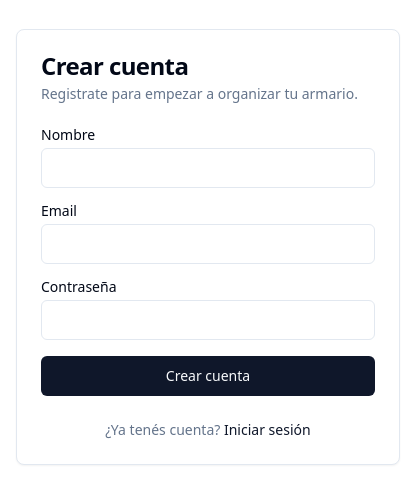
it: RegisterPage › valida longitud mínima de password sin disparar el request
The image size is (417, 495).
Type "Nico" into the field labelled "Nombre" at (208, 168), box [41,148,375,188]
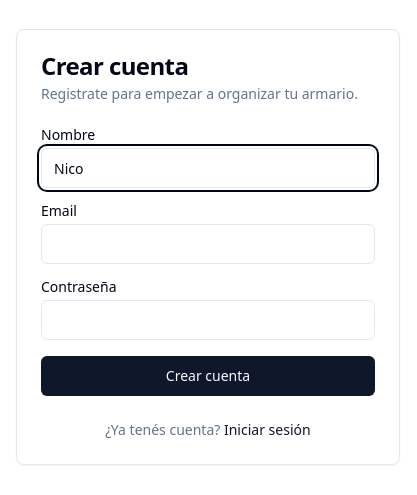
Type "nuevo@b.com" into the field labelled "Email" at (208, 244), box [41,224,375,264]
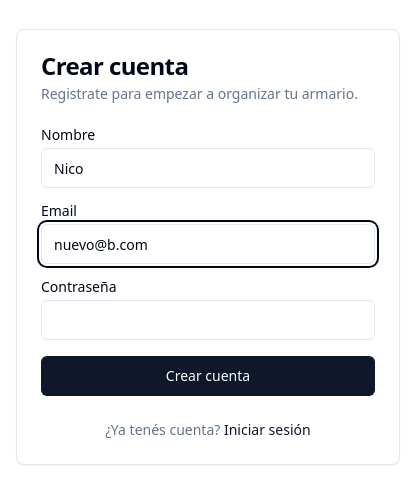
Type "short" into the password field labelled "Contraseña" at (208, 320), box [41,300,375,340]
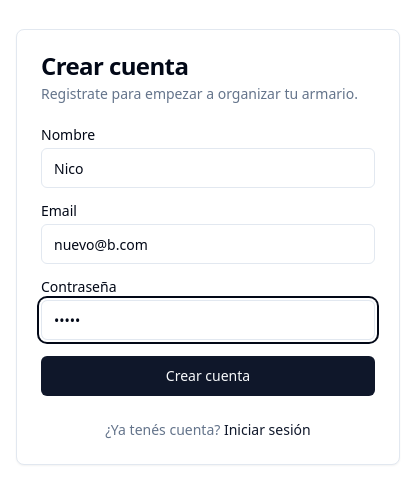
Click the button "Crear cuenta" at (208, 376), box [41,356,375,396]
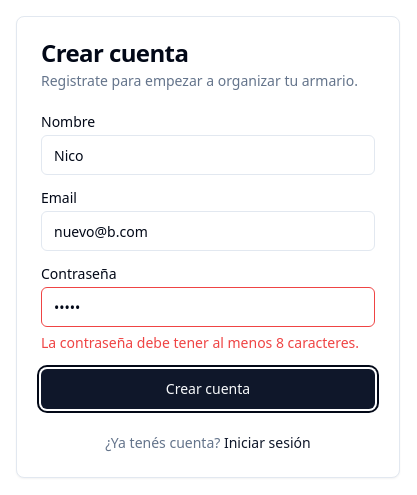
Result: the text "La contraseña debe tener al menos 8 caracteres." is shown at [41,333,375,353]
